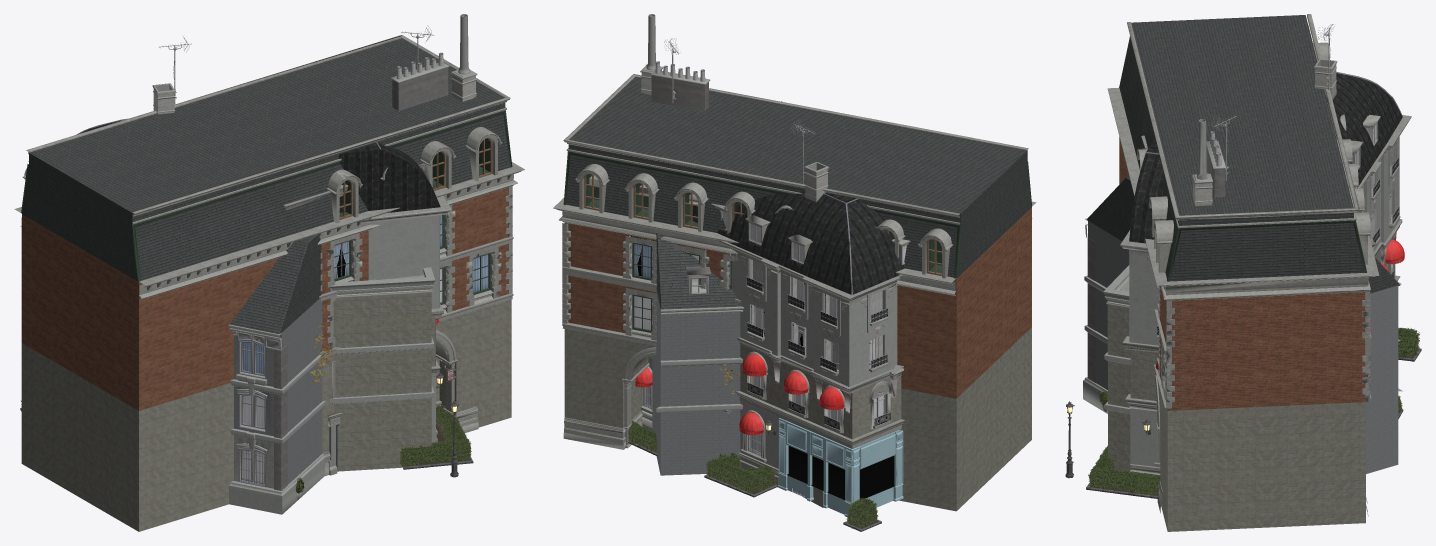
Rendered from district-high.glb.
The picture shows the model from 3 angles, left to right: view 1: azimuth 30°, elevation 25°; view 2: azimuth 150°, elevation 25°; view 3: azimuth 270°, elevation 25°; orthographic projection. The views are drawn at different scales.
Visible parts, largest first — view 1: Bistro_Research_Exterior_paris_building_02_4913, Bistro_Research_Exterior_paris_building_02_4921, Bistro_Research_Exterior_paris_building_02_4919, Bistro_Research_Exterior_paris_building_02_4909, Bistro_Research_Exterior_paris_building_03_4943, Bistro_Research_Exterior_paris_building_03_mirrored_10__4967, Bistro_Research_Exterior_paris_building_03_mirrored_7__4981, Bistro_Research_Exterior_paris_building_03_mirrored_6__4979, Bistro_Research_Exterior_paris_building_09_5453, Bistro_Research_Exterior_paris_building_09_5443, Bistro_Research_Exterior_paris_building_02_4911, Bistro_Research_Exterior_paris_building_03_4945 (+11 smaller); view 2: Bistro_Research_Exterior_paris_building_02_4913, Bistro_Research_Exterior_paris_building_02_4919, Bistro_Research_Exterior_paris_building_02_4921, Bistro_Research_Exterior_paris_building_02_4909, Bistro_Research_Exterior_paris_building_03_mirrored_10__4967, Bistro_Research_Exterior_paris_building_09_5443, Bistro_Research_Exterior_paris_building_09_5453, Bistro_Research_Exterior_paris_building_09_5433, Bistro_Research_Exterior_paris_building_09_5455, Bistro_Research_Exterior_paris_building_09_5449, Bistro_Research_Exterior_paris_building_02_4911, Bistro_Research_Exterior_paris_building_03_mirrored_6__4979 (+14 smaller); view 3: Bistro_Research_Exterior_paris_building_02_4913, Bistro_Research_Exterior_paris_building_02_4921, Bistro_Research_Exterior_paris_building_02_4919, Bistro_Research_Exterior_paris_building_02_4909, Bistro_Research_Exterior_paris_building_03_mirrored_10__4967, Bistro_Research_Exterior_paris_building_09_5453, Bistro_Research_Exterior_paris_building_09_5443, Bistro_Research_Exterior_paris_building_03_4943, Bistro_Research_Exterior_paris_building_09_5433, Bistro_Research_Exterior_paris_building_03_mirrored_6__4979, Bistro_Research_Exterior_bux_hedge_box_long_low13_3973, Bistro_Research_Exterior_paris_building_09_5449 (+10 smaller).
Boxes of the visible parts, x1,y1,x2,y2 form: Bistro_Research_Exterior_paris_building_02_4913: (22,38,509,281); Bistro_Research_Exterior_paris_building_02_4921: (21,299,511,531); Bistro_Research_Exterior_paris_building_02_4919: (21,187,508,410); Bistro_Research_Exterior_paris_building_02_4909: (14,35,524,475); Bistro_Research_Exterior_paris_building_03_4943: (333,287,431,471); Bistro_Research_Exterior_paris_building_03_mirrored_10__4967: (234,298,322,484); Bistro_Research_Exterior_paris_building_03_mirrored_7__4981: (228,324,326,514); Bistro_Research_Exterior_paris_building_03_mirrored_6__4979: (230,234,321,333); Bistro_Research_Exterior_paris_building_09_5453: (82,120,440,212); Bistro_Research_Exterior_paris_building_09_5443: (368,215,439,442); Bistro_Research_Exterior_paris_building_02_4911: (21,110,512,304); Bistro_Research_Exterior_paris_building_03_4945: (329,267,435,403); Bistro_Research_Exterior_paris_building_02_4913: (566,76,1031,277); Bistro_Research_Exterior_paris_building_02_4919: (564,207,1031,398); Bistro_Research_Exterior_paris_building_02_4921: (564,327,1031,511); Bistro_Research_Exterior_paris_building_02_4909: (553,74,1036,449); Bistro_Research_Exterior_paris_building_03_mirrored_10__4967: (652,290,740,475); Bistro_Research_Exterior_paris_building_09_5443: (630,236,900,468); Bistro_Research_Exterior_paris_building_09_5453: (690,191,904,294); Bistro_Research_Exterior_paris_building_09_5433: (641,203,910,487); Bistro_Research_Exterior_paris_building_09_5455: (646,387,903,516); Bistro_Research_Exterior_paris_building_09_5449: (740,344,901,439); Bistro_Research_Exterior_paris_building_02_4911: (563,151,1031,332); Bistro_Research_Exterior_paris_building_03_mirrored_6__4979: (652,233,741,309); Bistro_Research_Exterior_paris_building_02_4913: (1119,15,1364,281); Bistro_Research_Exterior_paris_building_02_4921: (1157,380,1365,531); Bistro_Research_Exterior_paris_building_02_4919: (1119,137,1365,410); Bistro_Research_Exterior_paris_building_02_4909: (1107,14,1379,516); Bistro_Research_Exterior_paris_building_03_mirrored_10__4967: (1088,221,1398,473); Bistro_Research_Exterior_paris_building_09_5453: (1129,73,1402,243); Bistro_Research_Exterior_paris_building_09_5443: (1129,136,1399,467); Bistro_Research_Exterior_paris_building_03_4943: (1107,299,1130,470); Bistro_Research_Exterior_paris_building_09_5433: (1120,114,1411,475); Bistro_Research_Exterior_paris_building_03_mirrored_6__4979: (1087,176,1400,293); Bistro_Research_Exterior_bux_hedge_box_long_low13_3973: (1088,445,1366,494); Bistro_Research_Exterior_paris_building_09_5449: (1130,250,1395,400).
Size of the model in its own units: 28.82 by 25.77 by 20.98.
43 materials, 37 textured.
